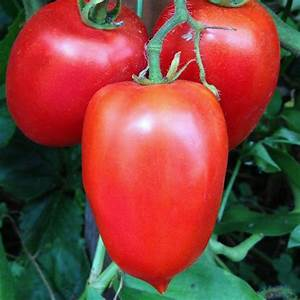tomato: (71, 82, 242, 290)
